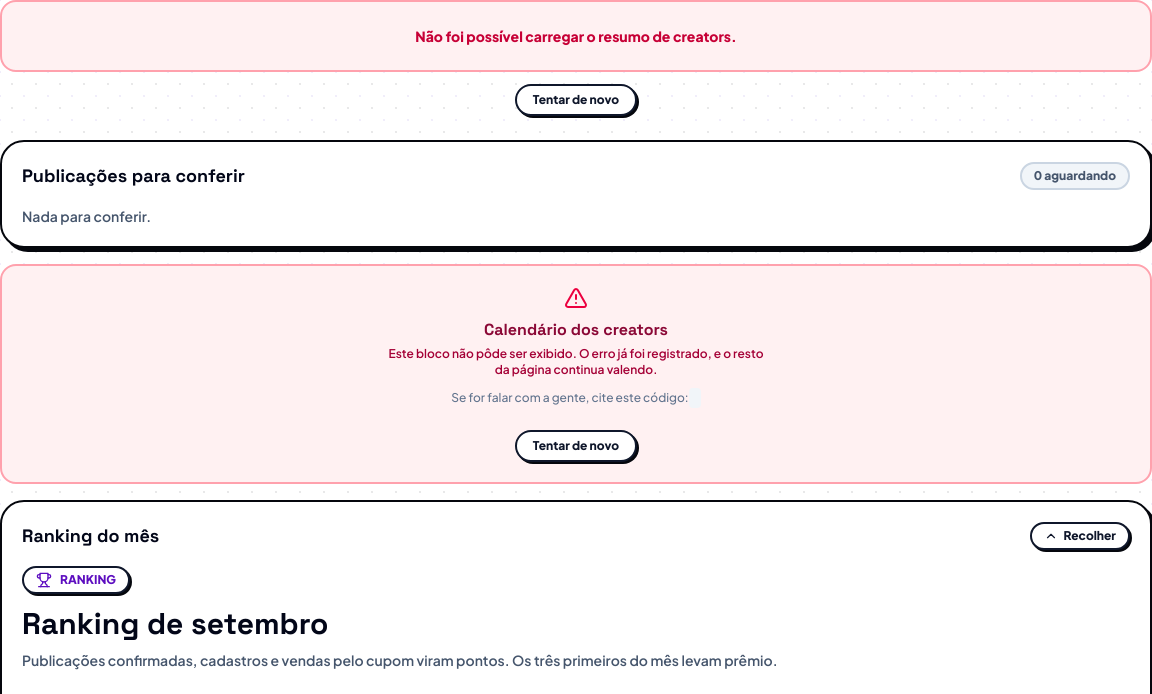
Test: resumo › resumo fora do formato vira erro, e tentar de novo busca outra vez
expect the element with test id "creators-resumo-erro" is shown: met, box [0,0,1151,116]
Step 1. Click the 1st button "Tentar de novo" → (576, 100), box [515,84,637,116]
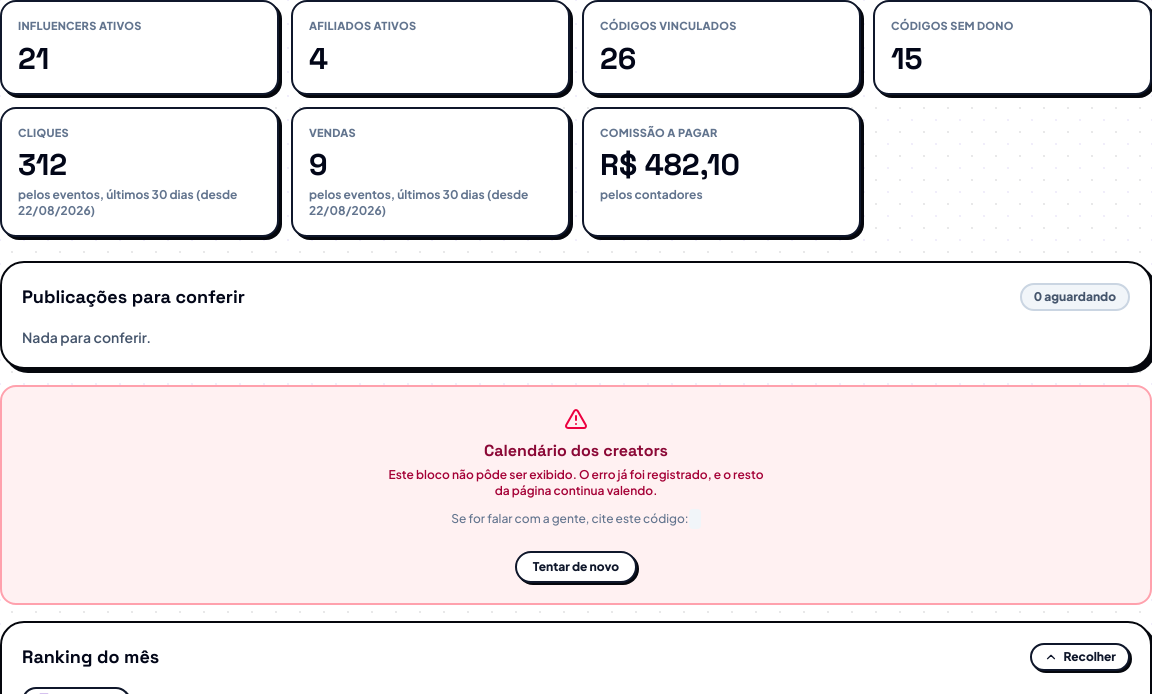
expect the element with test id "creators-resumo" is shown: met, box [0,0,1151,237]
